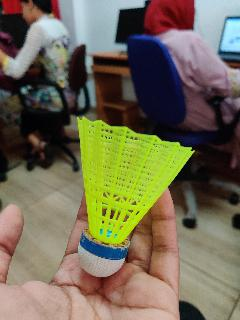shuttlecock: (77, 116, 194, 276)
